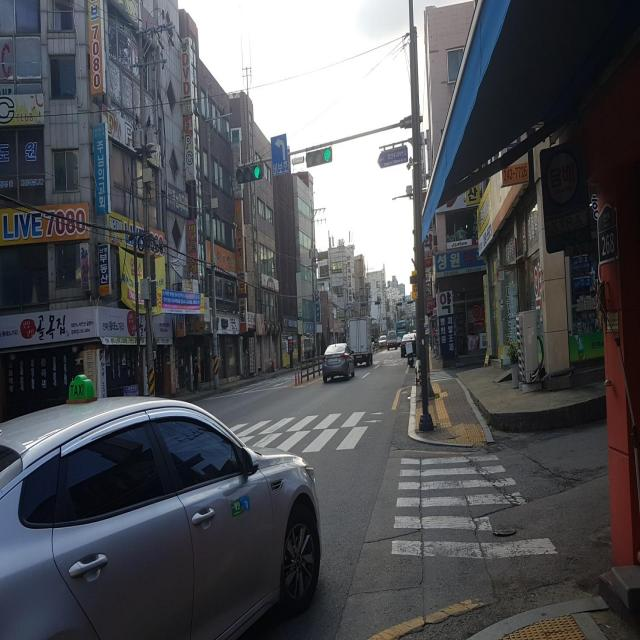횡단보도: (390, 452, 559, 561), (230, 409, 390, 452)
